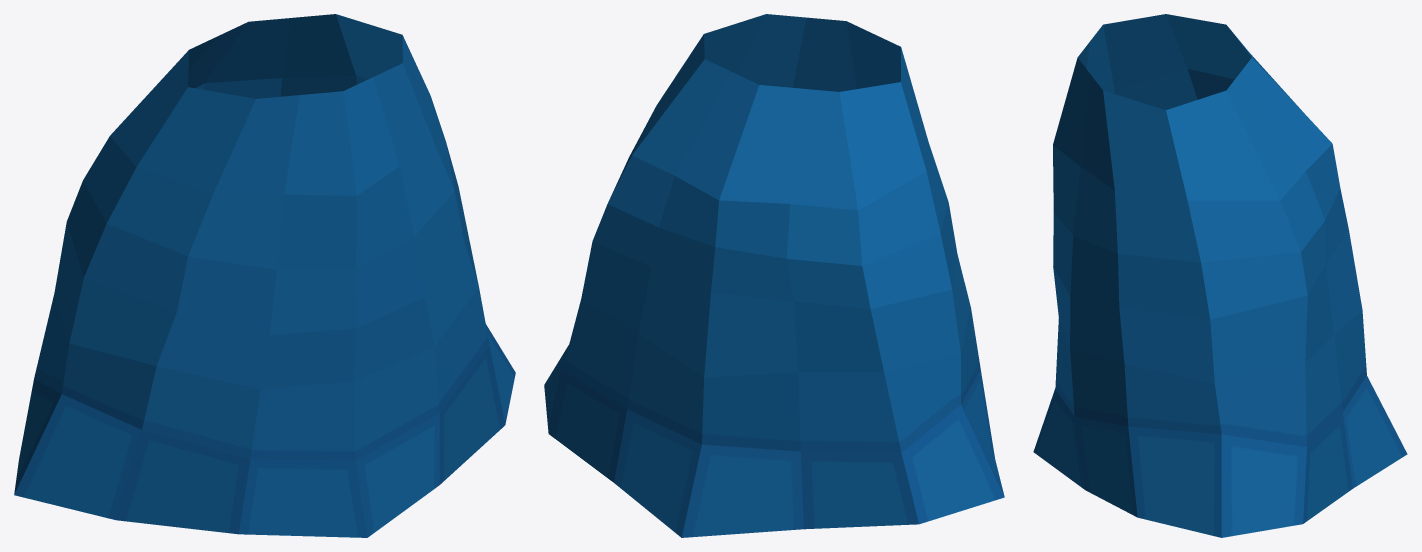
File: blueskirt.fbx
The picture shows the model from 3 angles, left to right: view 1: azimuth 30°, elevation 25°; view 2: azimuth 150°, elevation 25°; view 3: azimuth 270°, elevation 25°; orthographic projection. The views are drawn at different scales.
Visible parts, largest first — view 1: JeansSkirt; view 2: JeansSkirt; view 3: JeansSkirt.
Part boxes in pixels (bbox=[...]): JeansSkirt: bbox=[14, 14, 515, 537]; JeansSkirt: bbox=[544, 14, 1004, 537]; JeansSkirt: bbox=[1033, 14, 1407, 537].
Bounding box in the file's own units: 113 × 93.21 × 79.69.
